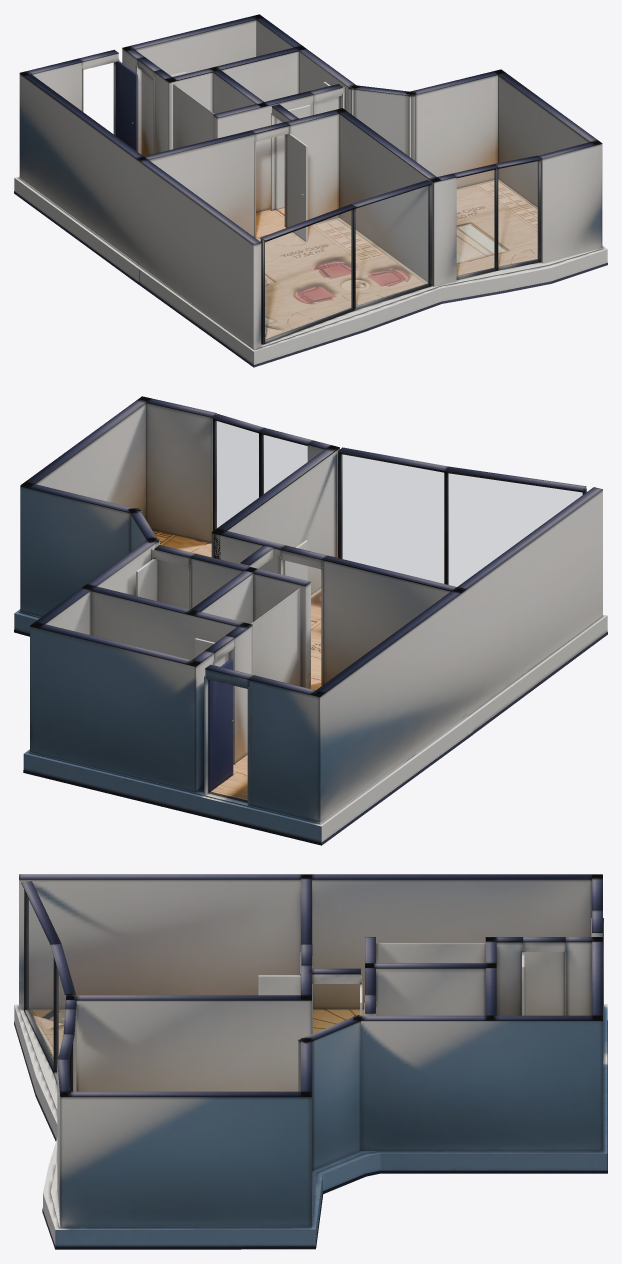
The picture shows the model from 3 angles, top to bottom: view 1: azimuth 30°, elevation 25°; view 2: azimuth 150°, elevation 25°; view 3: azimuth 270°, elevation 25°; orthographic projection. The views are drawn at different scales.
Parts seen in each view (by area): view 1: plan, glass0_m, glass1_m, glass3_m, glass2_m; view 2: plan, glass1_m, glass0_m, glass3_m, glass2_m; view 3: plan, glass0_m, glass1_m.
Part boxes in pixels (<box>): plan: <box>14,14,607,367</box>; glass0_m: <box>265,210,352,340</box>; glass1_m: <box>356,186,428,306</box>; glass3_m: <box>498,161,538,266</box>; glass2_m: <box>457,170,494,276</box>; plan: <box>14,396,607,845</box>; glass1_m: <box>342,454,443,583</box>; glass0_m: <box>448,473,582,586</box>; glass3_m: <box>216,421,258,528</box>; glass2_m: <box>263,435,307,493</box>; plan: <box>14,874,607,1249</box>; glass0_m: <box>27,897,53,1064</box>; glass1_m: <box>56,967,65,1073</box>.
Size of the model in its own units: 8.43 by 2.62 by 9.35.
2 materials, 1 textured.
